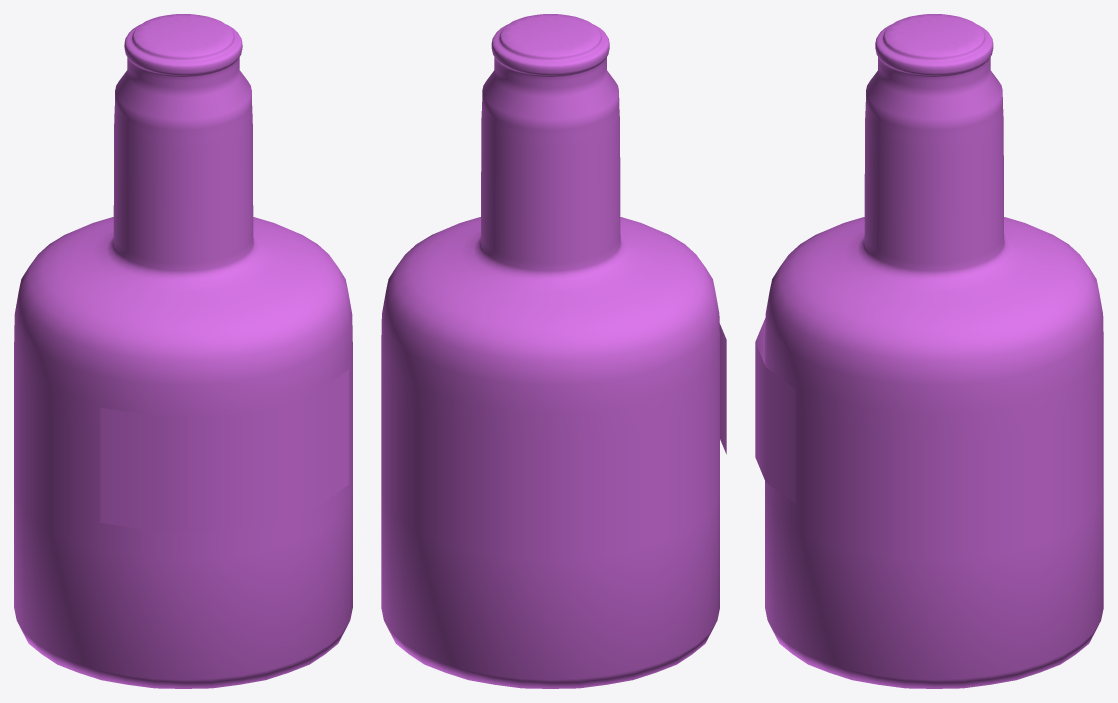
File: AmoniaControl.fbx
3 renders of one model, left to right at view 1: azimuth 30°, elevation 25°; view 2: azimuth 150°, elevation 25°; view 3: azimuth 270°, elevation 25°, orthographic.
Parts seen in each view (by area): view 1: Cylinder.001; view 2: Cylinder.001; view 3: Cylinder.001.
Boxes of the visible parts, x1,y1,x2,y2 form: Cylinder.001: (14,14,352,688); Cylinder.001: (381,14,726,688); Cylinder.001: (755,14,1103,688).
Bounding box in the file's own units: 31.23 × 60.35 × 32.13.
